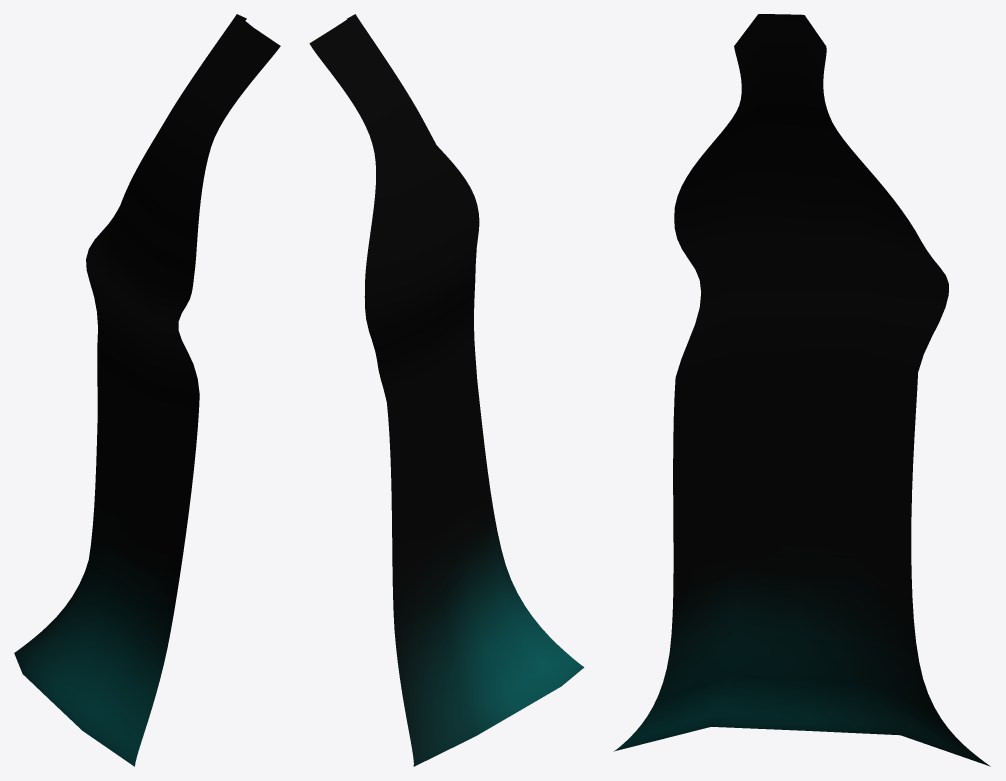
The model's file is RamSpline (6).fbx.
3 views of the same model, side by side, from view 1: azimuth 30°, elevation 25°; view 2: azimuth 150°, elevation 25°; view 3: azimuth 270°, elevation 25° (orthographic). The views are drawn at different scales.
Parts seen in each view (by area): view 1: RamSpline__6_; view 2: RamSpline__6_; view 3: RamSpline__6_.
Boxes of the visible parts, x1,y1,x2,y2 form: RamSpline__6_: (14,14,280,766); RamSpline__6_: (309,14,584,766); RamSpline__6_: (613,14,990,766).
Bounding box in the file's own units: 442 × 1326 × 536.
